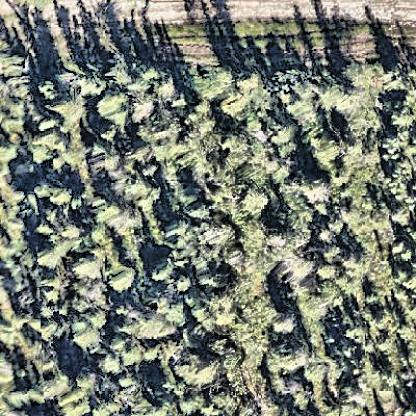tree-top: (342, 61, 394, 98), (190, 63, 235, 103), (178, 354, 225, 392), (264, 341, 304, 380), (308, 133, 346, 172), (68, 317, 106, 353), (94, 88, 131, 124), (269, 120, 304, 155), (296, 291, 331, 326), (33, 239, 70, 271), (200, 218, 238, 249), (299, 173, 334, 206), (241, 184, 273, 218), (54, 391, 95, 416), (108, 264, 140, 296), (129, 92, 160, 124), (271, 306, 302, 338), (1, 45, 31, 77), (71, 252, 102, 282), (44, 182, 74, 210), (96, 351, 125, 378), (287, 382, 314, 411), (304, 359, 330, 385), (38, 79, 64, 103), (392, 105, 416, 130), (172, 271, 196, 295), (84, 307, 110, 329), (150, 260, 174, 283), (95, 123, 120, 145), (393, 239, 416, 262), (394, 204, 414, 229), (1, 140, 19, 166)
